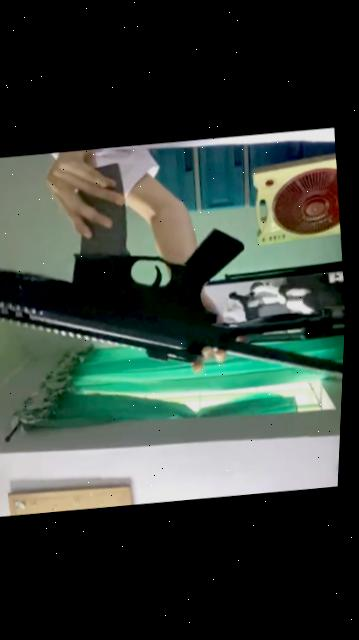rifle: (0, 131, 354, 429)
